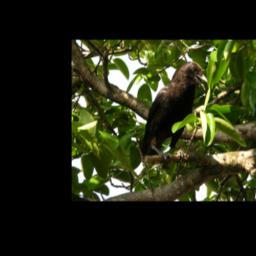Crow: (139, 59, 210, 164)
